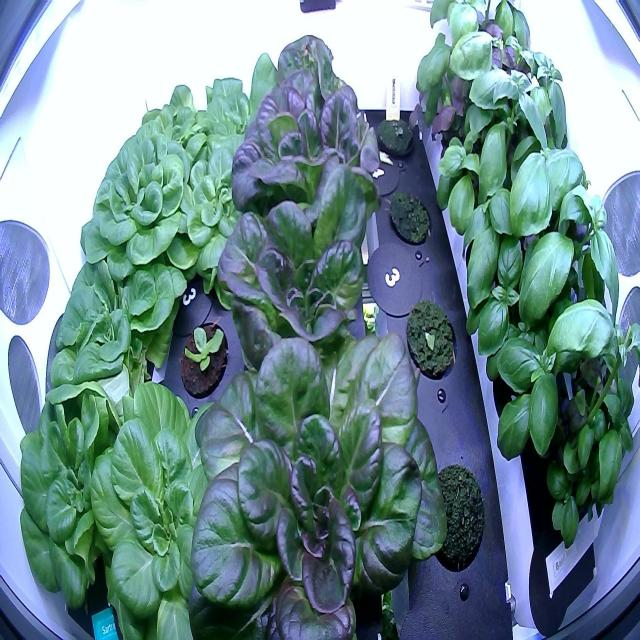Ready: (188, 313, 454, 640), (205, 153, 390, 393), (16, 377, 152, 619), (225, 80, 387, 254), (45, 231, 187, 428), (75, 110, 211, 293), (240, 26, 368, 170), (125, 69, 219, 177)
germination: (374, 105, 417, 164)
pod: (417, 449, 488, 587), (402, 288, 461, 385), (382, 181, 436, 251)
young: (88, 374, 248, 639), (169, 138, 275, 299), (184, 46, 300, 168), (177, 308, 232, 402)
